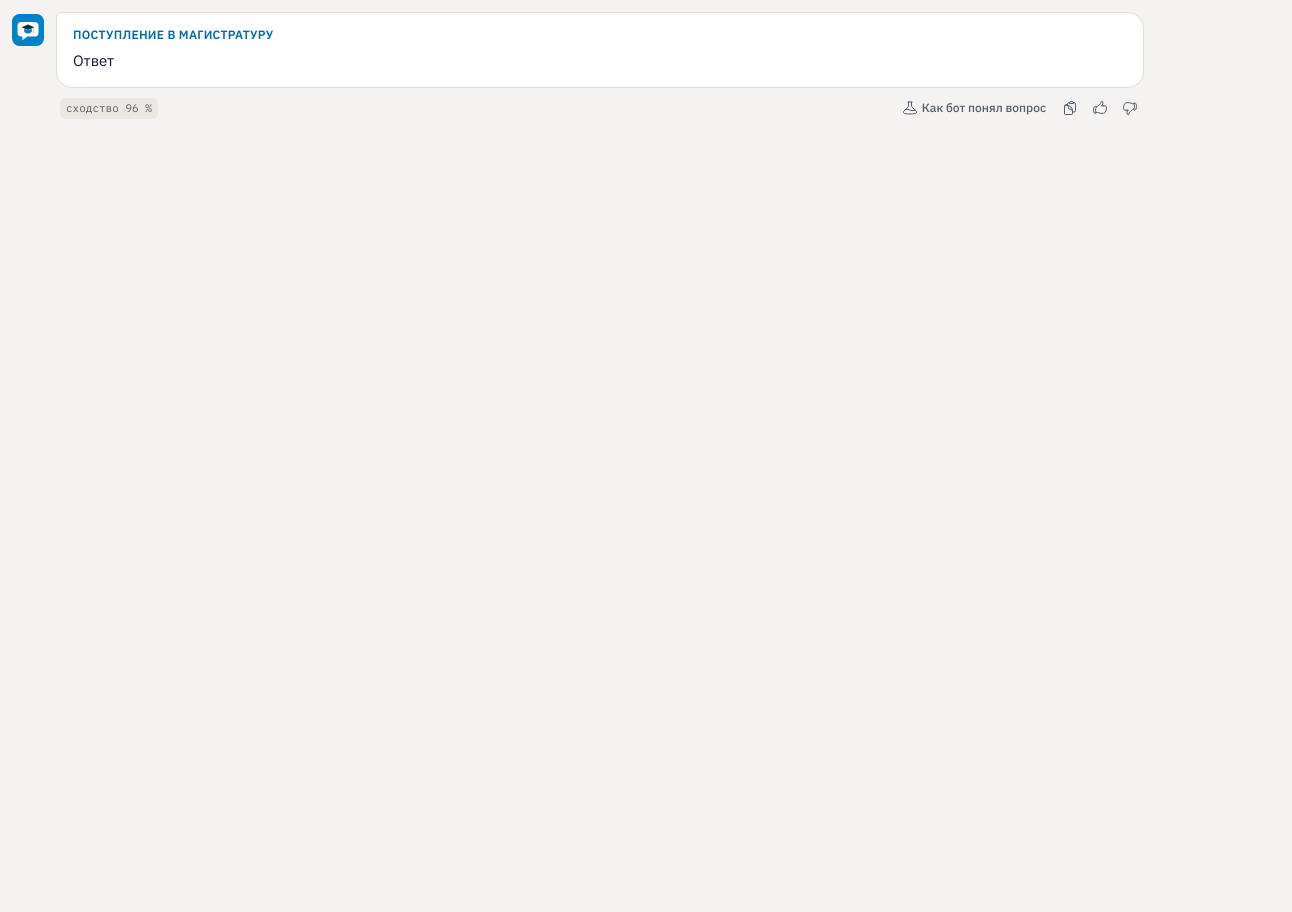
Test: ChatBubble › explains an answer found by smart search
Click the button "Как бот понял вопрос".
click(974, 108)  # box [894, 96, 1054, 120]
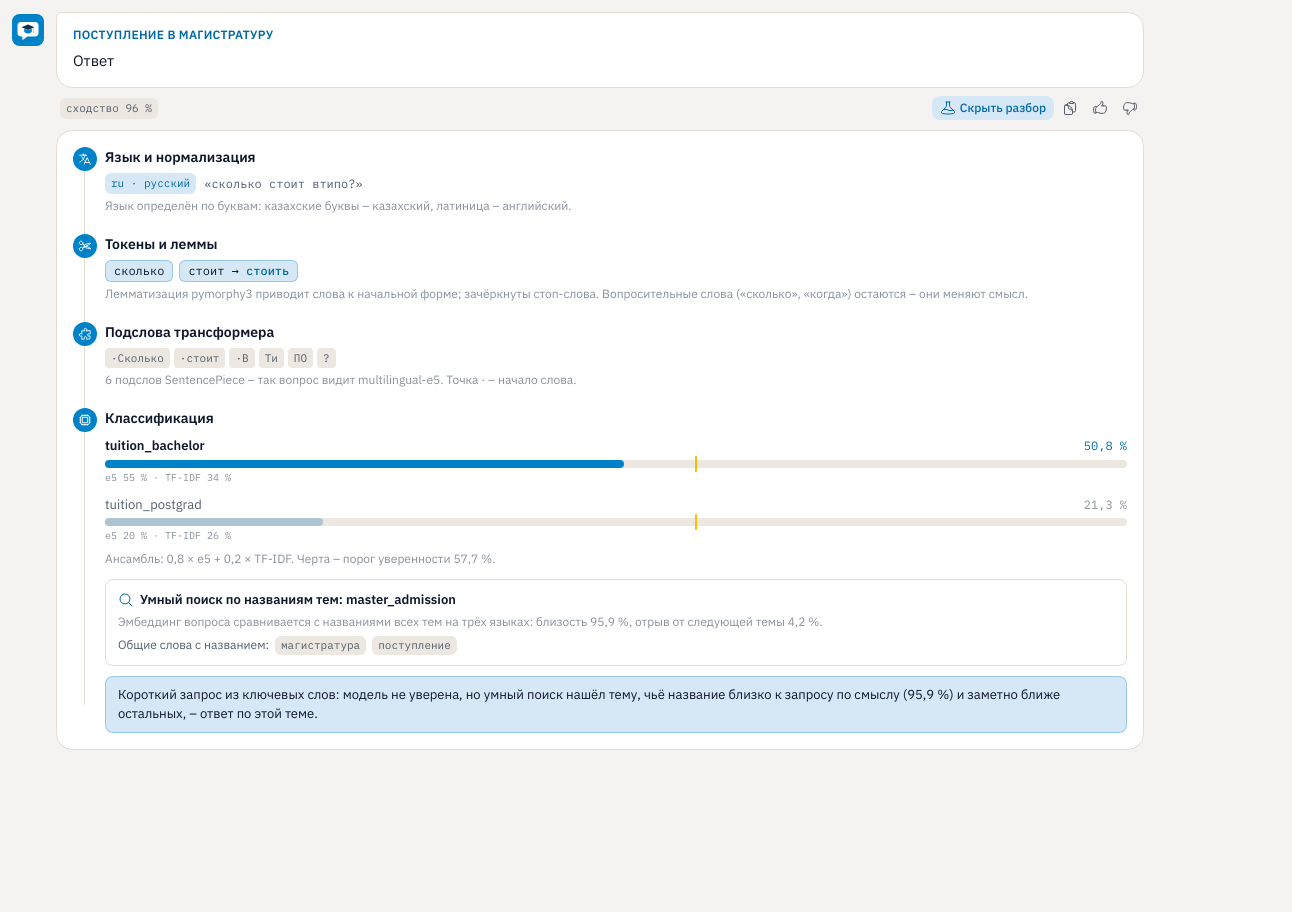
Expected: the text "Поступление" is shown, [73, 27, 273, 42]
Expected: the text "Умный поиск по названиям тем" is shown, [140, 591, 456, 608]
Expected: the text "умный поиск нашёл тему" is shown, [118, 686, 1060, 722]
